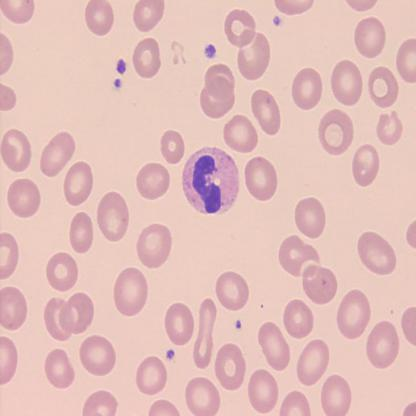Band Neutrophil: (178, 143, 242, 217)
